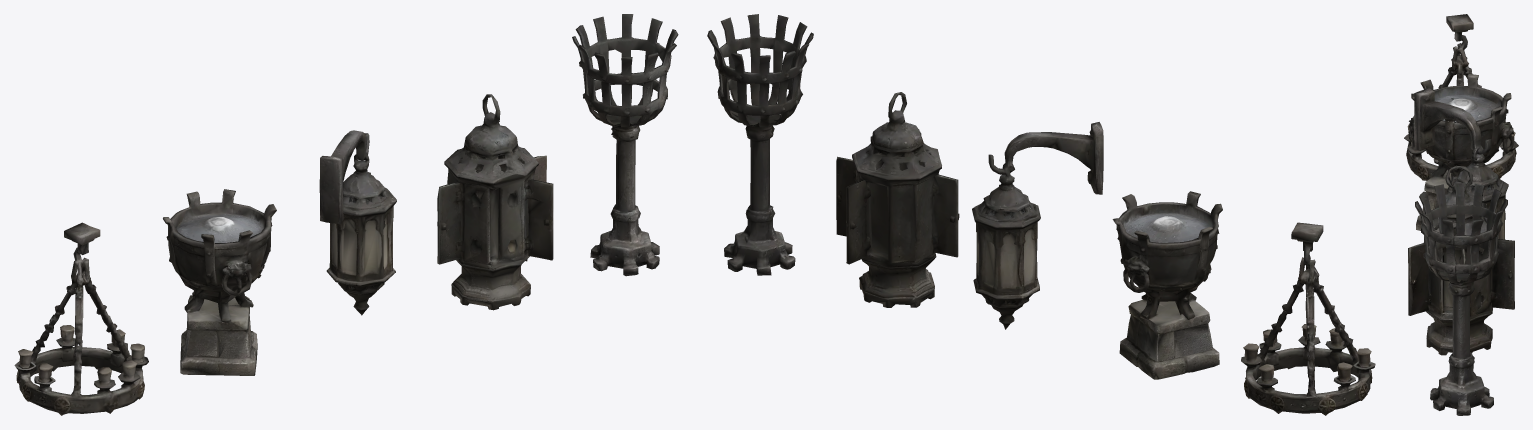
File: lamps_tower_gate.glb
3 views of the same model, side by side, from view 1: azimuth 30°, elevation 25°; view 2: azimuth 150°, elevation 25°; view 3: azimuth 270°, elevation 25° (orthographic). The views are drawn at different scales.
Parts seen in each view (by area): view 1: lantern_signal, beacon_cauldron, beacon_basket_pole, chandelier_hall, lantern_watchtower; view 2: lantern_signal, beacon_cauldron, beacon_basket_pole, lantern_watchtower, chandelier_hall; view 3: beacon_basket_pole, lantern_signal, beacon_cauldron, lantern_watchtower, chandelier_hall.
Boxes of the visible parts, x1,y1,x2,y2 form: lantern_signal: [437, 94, 553, 310]; beacon_cauldron: [163, 189, 276, 375]; beacon_basket_pole: [572, 14, 678, 276]; chandelier_hall: [14, 222, 148, 415]; lantern_watchtower: [319, 130, 396, 315]; lantern_signal: [836, 92, 959, 307]; beacon_cauldron: [1112, 191, 1222, 379]; beacon_basket_pole: [707, 14, 813, 275]; lantern_watchtower: [972, 122, 1103, 329]; chandelier_hall: [1241, 222, 1375, 415]; beacon_basket_pole: [1415, 183, 1507, 415]; lantern_signal: [1408, 165, 1514, 355]; beacon_cauldron: [1408, 74, 1514, 230]; lantern_watchtower: [1414, 88, 1508, 239]; chandelier_hall: [1404, 14, 1518, 180].
Bounding box in the file's own units: 1.21 × 0.4024 × 0.2086.
Materials: 1 (1 with a texture image).
